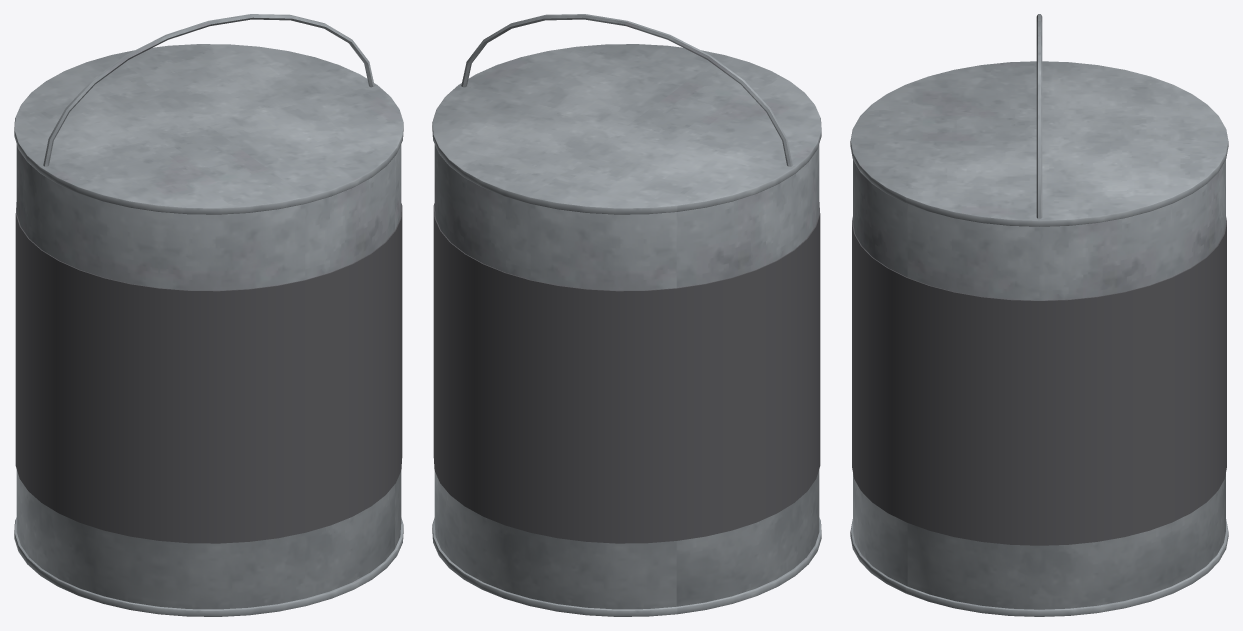
Rendered from IMP-LIQ-002.glb.
The picture shows the model from 3 angles, left to right: view 1: azimuth 30°, elevation 25°; view 2: azimuth 150°, elevation 25°; view 3: azimuth 270°, elevation 25°; orthographic projection. The views are drawn at different scales.
Visible parts, largest first — view 1: IMP-LIQ-002_rotulo, IMP-LIQ-002_lata, IMP-LIQ-002_aro, IMP-LIQ-002_aro2, IMP-LIQ-002_alca; view 2: IMP-LIQ-002_rotulo, IMP-LIQ-002_lata, IMP-LIQ-002_aro, IMP-LIQ-002_aro2, IMP-LIQ-002_alca; view 3: IMP-LIQ-002_rotulo, IMP-LIQ-002_lata, IMP-LIQ-002_aro, IMP-LIQ-002_aro2, IMP-LIQ-002_alca.
Boxes of the visible parts, x1,y1,x2,y2 form: IMP-LIQ-002_rotulo: (15, 202, 402, 543); IMP-LIQ-002_lata: (16, 144, 401, 609); IMP-LIQ-002_aro: (14, 44, 403, 214); IMP-LIQ-002_aro2: (14, 517, 403, 616); IMP-LIQ-002_alca: (43, 14, 374, 166); IMP-LIQ-002_rotulo: (433, 202, 820, 543); IMP-LIQ-002_lata: (434, 144, 819, 609); IMP-LIQ-002_aro: (432, 44, 821, 214); IMP-LIQ-002_aro2: (432, 517, 821, 616); IMP-LIQ-002_alca: (461, 14, 792, 166); IMP-LIQ-002_rotulo: (852, 217, 1226, 545); IMP-LIQ-002_lata: (853, 160, 1225, 609); IMP-LIQ-002_aro: (850, 61, 1228, 226); IMP-LIQ-002_aro2: (850, 519, 1228, 616); IMP-LIQ-002_alca: (1036, 14, 1042, 218).
Size of the model in its own units: 0.304 by 0.4419 by 0.304.
3 materials, 1 textured.
